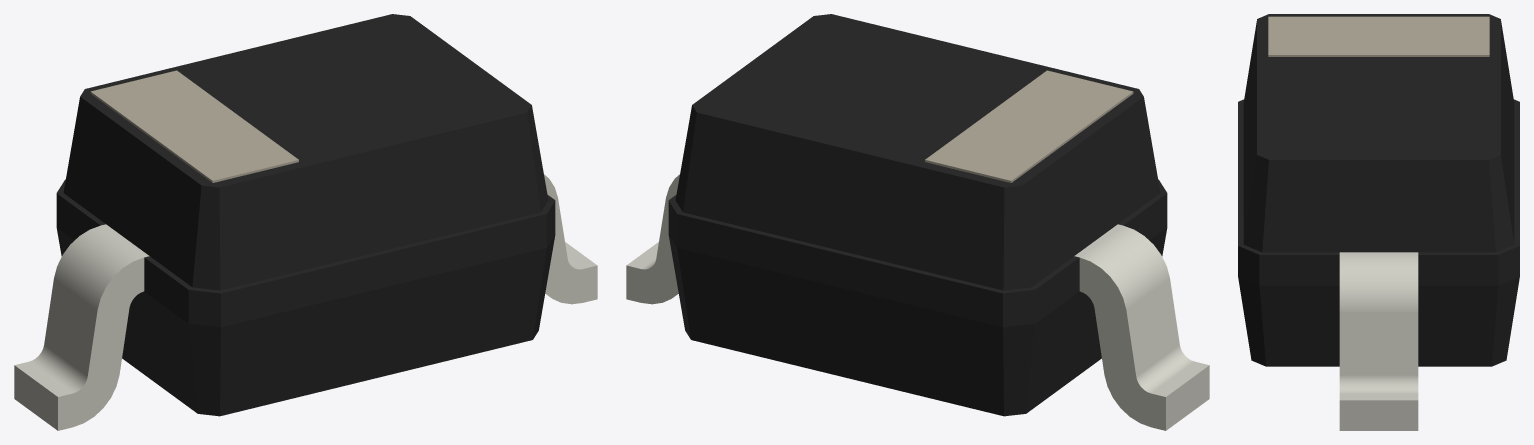
Rendered from D_SOD-323.glb.
3 views of the same model, side by side, from view 1: azimuth 30°, elevation 25°; view 2: azimuth 150°, elevation 25°; view 3: azimuth 270°, elevation 25° (orthographic). The views are drawn at different scales.
Parts seen in each view (by area): view 1: =>[0:1:1:3]; view 2: =>[0:1:1:3]; view 3: =>[0:1:1:3].
Part boxes in pixels (x1,y1,x2,y2): =>[0:1:1:3]: [14, 14, 597, 430]; =>[0:1:1:3]: [626, 14, 1209, 430]; =>[0:1:1:3]: [1238, 14, 1519, 430].
Size of the model in its own units: 0.0025 by 0.00111 by 0.00125.
